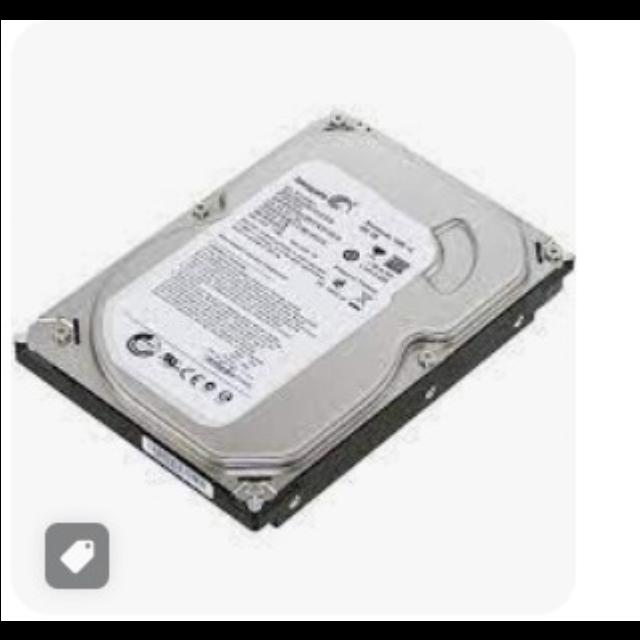HDD: (26, 113, 570, 533)
